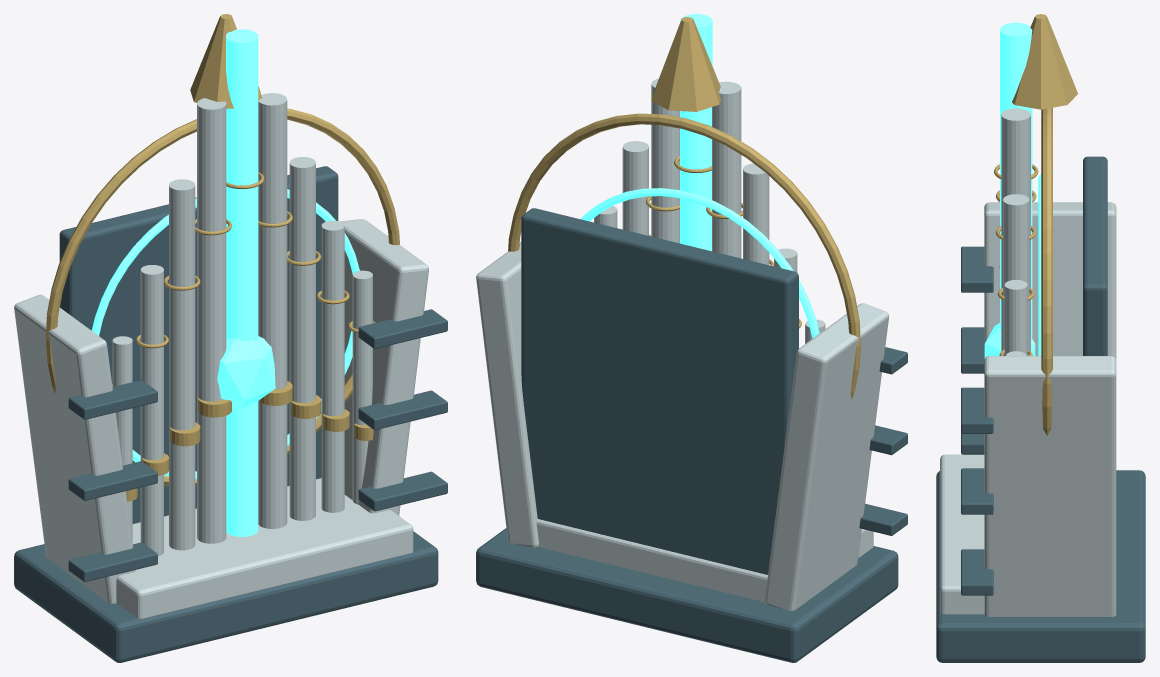
File: choir_acoustic_organ.glb
3 views of the same model, side by side, from view 1: azimuth 30°, elevation 25°; view 2: azimuth 150°, elevation 25°; view 3: azimuth 270°, elevation 25° (orthographic).
Parts seen in each view (by area): view 1: Organ_Wing_-1, Organ_Plinth, Organ_LowerStep, Organ_BackPanel, Organ_Pipe_4, Organ_Pipe_3, Organ_Wing_1, Organ_Pipe_5, Organ_Pipe_2, Organ_Pipe_6, Organ_Pipe_7, Organ_CathedralHalo (+12 smaller); view 2: Organ_BackPanel, Organ_Wing_-1, Organ_Plinth, Organ_Wing_1, Organ_LowerStep, Organ_CathedralHalo, Organ_Pipe_3, Organ_Pipe_4, Organ_CrownSpire, Organ_Pipe_5, Organ_ResonanceHalo, Organ_Pipe_2 (+3 smaller); view 3: Organ_Wing_1, Organ_Plinth, Organ_Wing_-1, Organ_LowerStep, Organ_BackPanel, Organ_CathedralHalo, Organ_CrownSpire, Organ_Pipe_5, Organ_Pipe_4, Organ_Pipe_6, Organ_Pipe_7, Organ_Balcony_-1_2 (+7 smaller).
Part boxes in pixels (x1=…): Organ_Wing_-1: x1=14, y1=294, x2=135, y2=603; Organ_Plinth: x1=14, y1=531, x2=438, y2=662; Organ_LowerStep: x1=116, y1=478, x2=413, y2=618; Organ_BackPanel: x1=59, y1=166, x2=338, y2=523; Organ_Pipe_4: x1=226, y1=29, x2=258, y2=536; Organ_Pipe_3: x1=197, y1=98, x2=226, y2=543; Organ_Wing_1: x1=340, y1=219, x2=428, y2=515; Organ_Pipe_5: x1=258, y1=93, x2=287, y2=528; Organ_Pipe_2: x1=169, y1=179, x2=195, y2=550; Organ_Pipe_6: x1=289, y1=157, x2=315, y2=520; Organ_Pipe_7: x1=321, y1=220, x2=344, y2=512; Organ_CathedralHalo: x1=45, y1=108, x2=399, y2=485; Organ_BackPanel: x1=521, y1=208, x2=798, y2=574; Organ_Wing_-1: x1=764, y1=303, x2=889, y2=610; Organ_Plinth: x1=476, y1=528, x2=898, y2=662; Organ_Wing_1: x1=476, y1=242, x2=538, y2=547; Organ_LowerStep: x1=536, y1=519, x2=873, y2=601; Organ_CathedralHalo: x1=508, y1=113, x2=860, y2=398; Organ_Pipe_3: x1=712, y1=81, x2=741, y2=258; Organ_Pipe_4: x1=680, y1=14, x2=712, y2=251; Organ_CrownSpire: x1=651, y1=17, x2=720, y2=111; Organ_Pipe_5: x1=651, y1=78, x2=679, y2=243; Organ_ResonanceHalo: x1=581, y1=188, x2=819, y2=338; Organ_Pipe_2: x1=743, y1=163, x2=769, y2=265; Organ_Wing_1: x1=984, y1=356, x2=1116, y2=616; Organ_Plinth: x1=936, y1=470, x2=1145, y2=662; Organ_Wing_-1: x1=984, y1=202, x2=1116, y2=359; Organ_LowerStep: x1=940, y1=454, x2=984, y2=614; Organ_BackPanel: x1=1083, y1=156, x2=1107, y2=355; Organ_CathedralHalo: x1=1041, y1=107, x2=1052, y2=435; Organ_CrownSpire: x1=1012, y1=14, x2=1077, y2=109; Organ_Pipe_5: x1=1001, y1=108, x2=1030, y2=350; Organ_Pipe_4: x1=1000, y1=22, x2=1032, y2=339; Organ_Pipe_6: x1=1003, y1=194, x2=1029, y2=355; Organ_Pipe_7: x1=1004, y1=280, x2=1027, y2=355; Organ_Balcony_-1_2: x1=961, y1=246, x2=993, y2=292.
Bounding box in the file's own units: 5.4 × 8.1 × 2.7.
